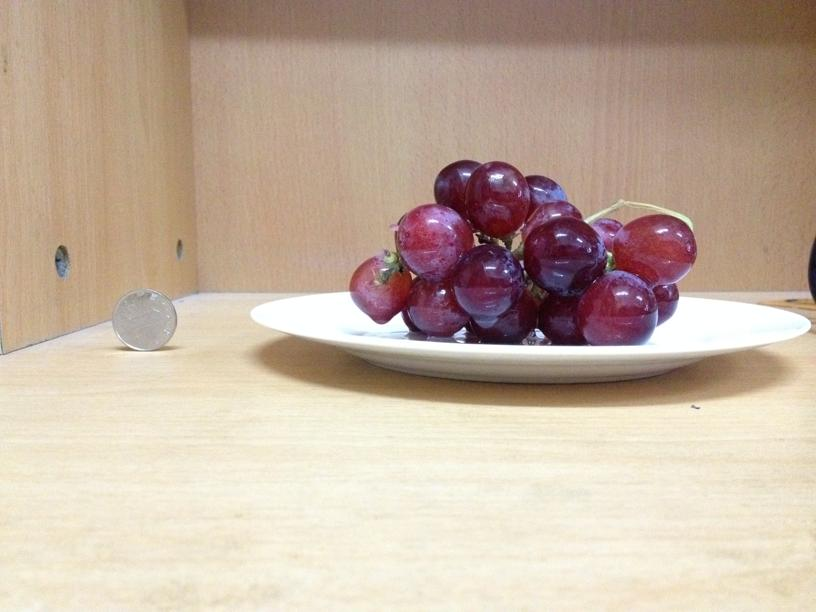coin: (112, 287, 176, 351)
grape: (354, 162, 696, 345)
